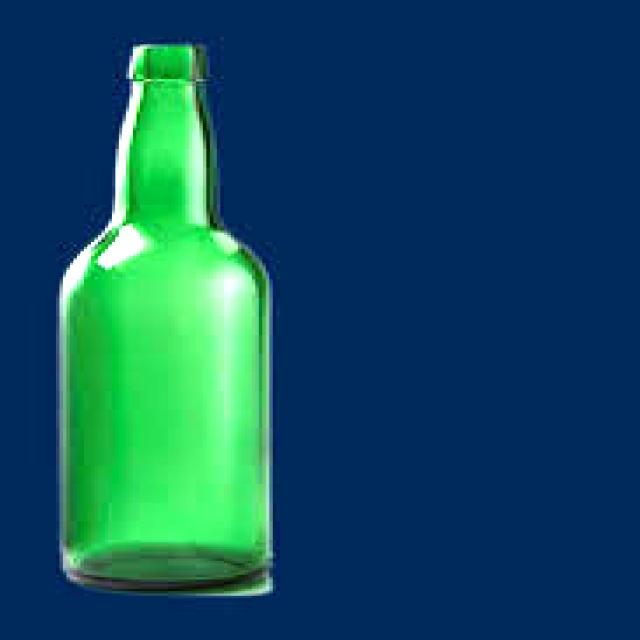Glass: (55, 40, 278, 598)
